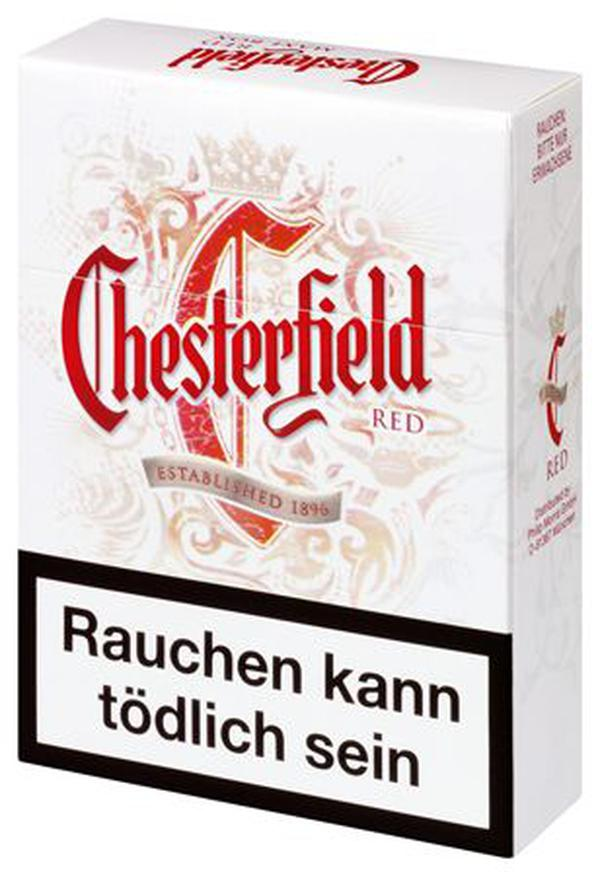chesterfield_red: (18, 99, 508, 763)
